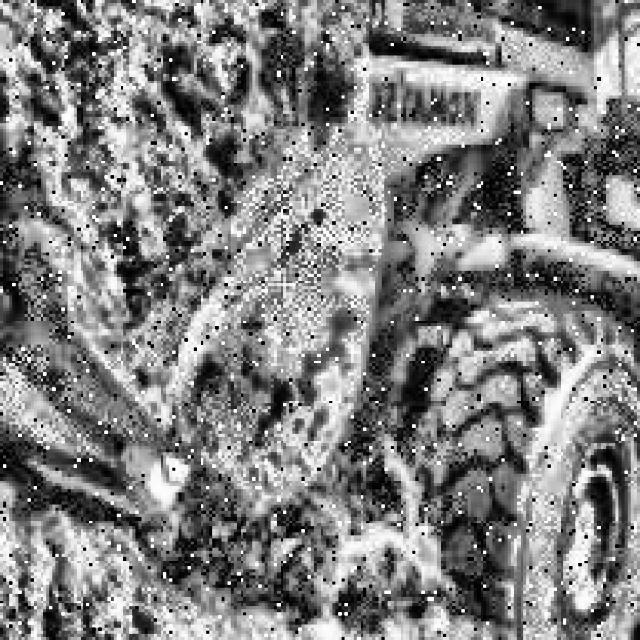buldozerpayloadergrader: (181, 0, 640, 640)
